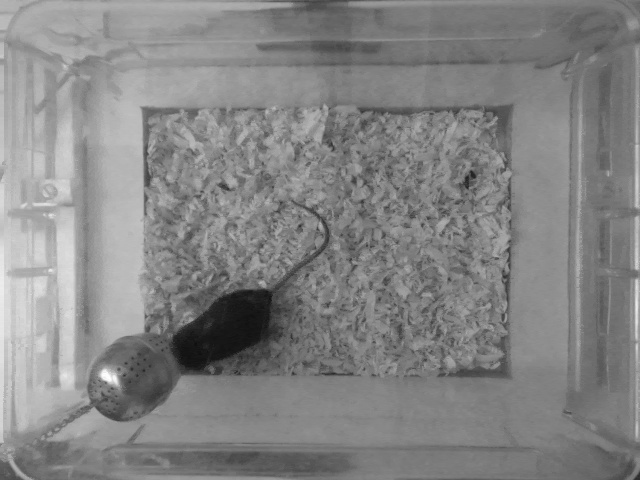mice: (163, 193, 327, 372)
